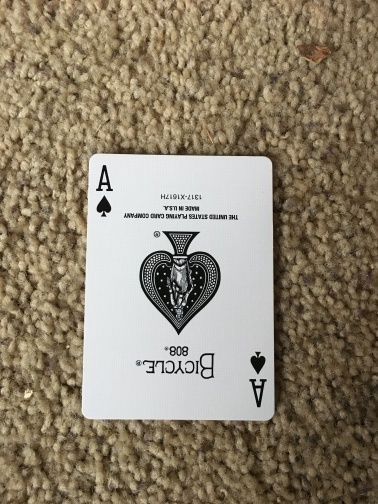ace: (89, 156, 272, 419)
